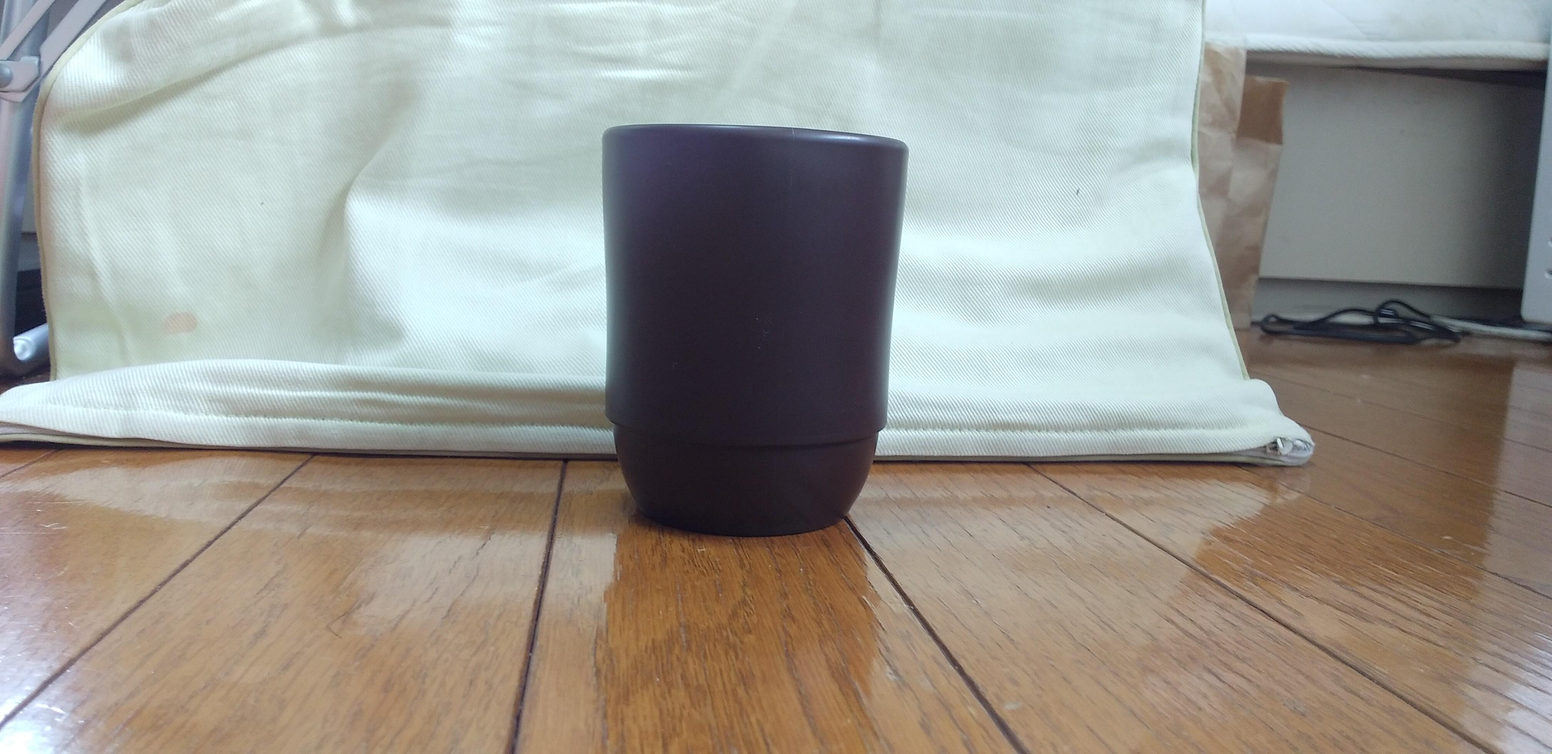mug-real100-3d100: (602, 125, 908, 536)
